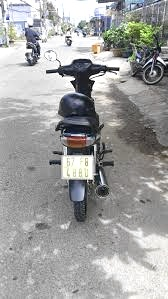Bien-so: (56, 157, 92, 182)
